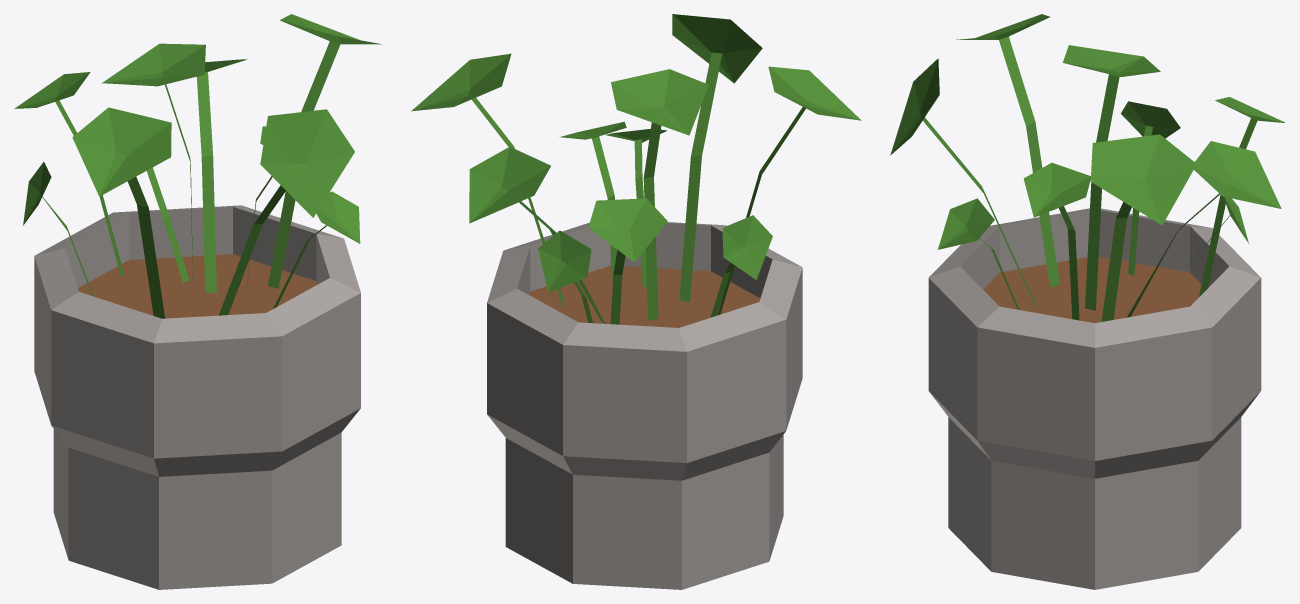
Rendered from furniture-pot-pilea.glb.
3 renders of one model, left to right at view 1: azimuth 30°, elevation 25°; view 2: azimuth 150°, elevation 25°; view 3: azimuth 270°, elevation 25°, orthographic. The views are drawn at different scales.
Parts seen in each view (by area): view 1: pot-pilea; view 2: pot-pilea; view 3: pot-pilea.
Part boxes in pixels (x1,y1,x2,y2): pot-pilea: [14, 14, 381, 589]; pot-pilea: [411, 14, 861, 589]; pot-pilea: [890, 14, 1284, 589].
Bounding box in the file's own units: 0.1669 × 0.2045 × 0.1575.
